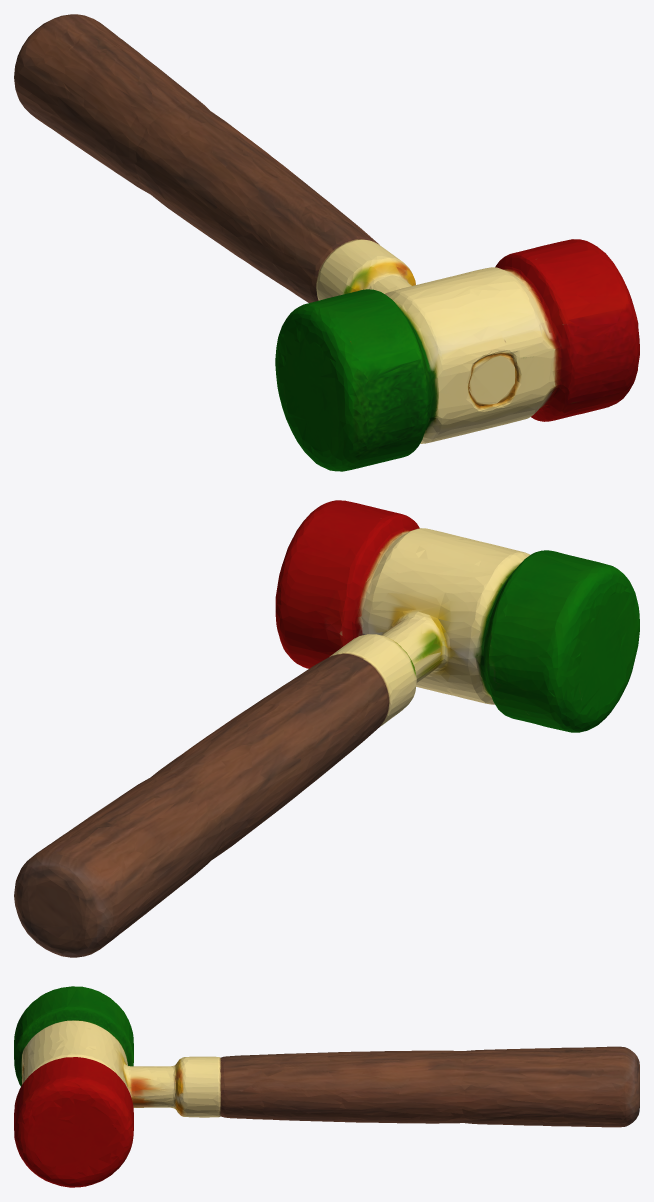
The model's file is mallet_visual.obj.
3 views of the same model, one above another, from view 1: azimuth 30°, elevation 25°; view 2: azimuth 150°, elevation 25°; view 3: azimuth 270°, elevation 25° (orthographic). The views are drawn at different scales.
Size of the model in its own units: 0.1032 by 0.0523 by 0.27.
1 material, 1 textured.
